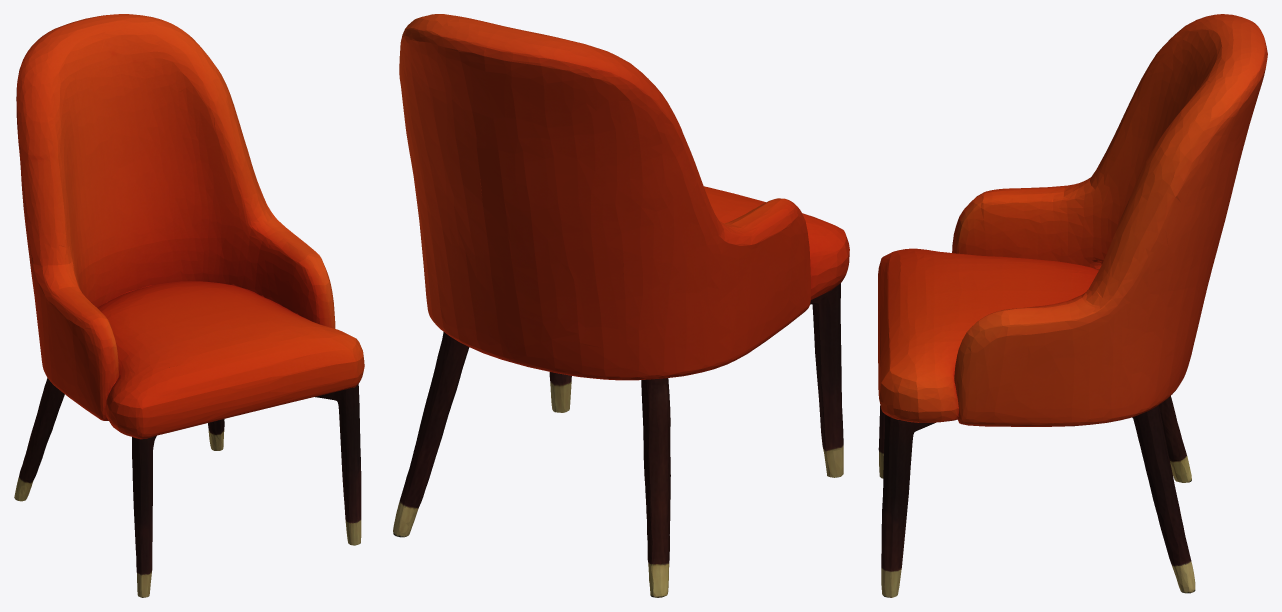
3 renders of one model, left to right at view 1: azimuth 30°, elevation 25°; view 2: azimuth 150°, elevation 25°; view 3: azimuth 270°, elevation 25°, orthographic. The views are drawn at different scales.
Parts seen in each view (by area): view 1: world; view 2: world; view 3: world.
Boxes of the visible parts, left/top/right/bottom form: world: left=14, top=14, right=364, bottom=597; world: left=393, top=14, right=849, bottom=597; world: left=878, top=14, right=1267, bottom=597.
Bounding box in the file's own units: 0.6059 × 1 × 0.7135.
Materials: 1 (1 with a texture image).
